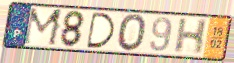8: (58, 10, 86, 49)
9: (148, 16, 173, 54)
D: (85, 11, 117, 50)
H: (172, 17, 210, 56)
M: (20, 7, 65, 48)
O: (116, 13, 148, 54)
